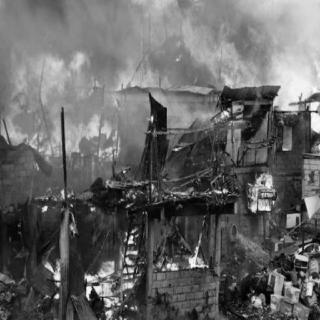Fire: (131, 6, 314, 127), (4, 40, 130, 161)
